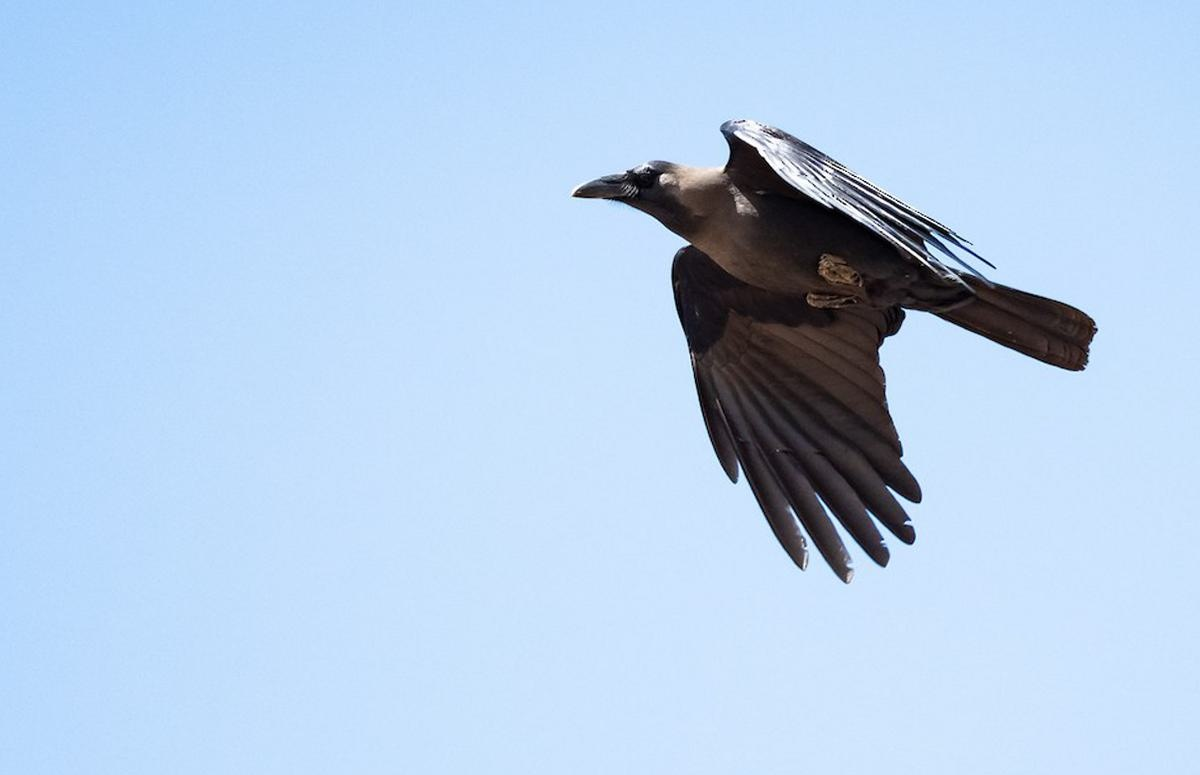crow: (569, 104, 1086, 582)
